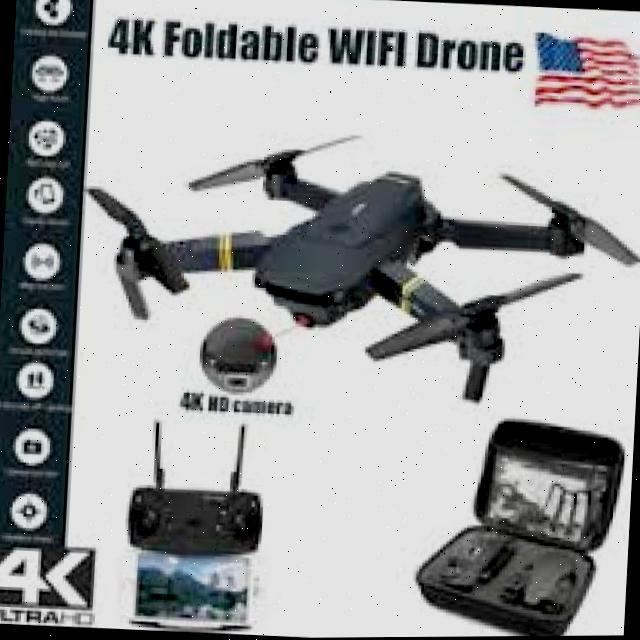drone: (80, 112, 640, 429)
